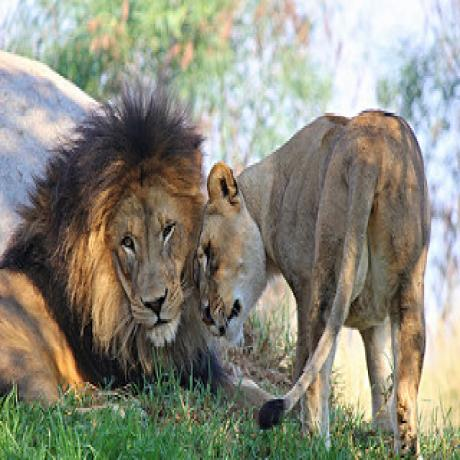Lion: (197, 104, 433, 460), (0, 85, 209, 456)
